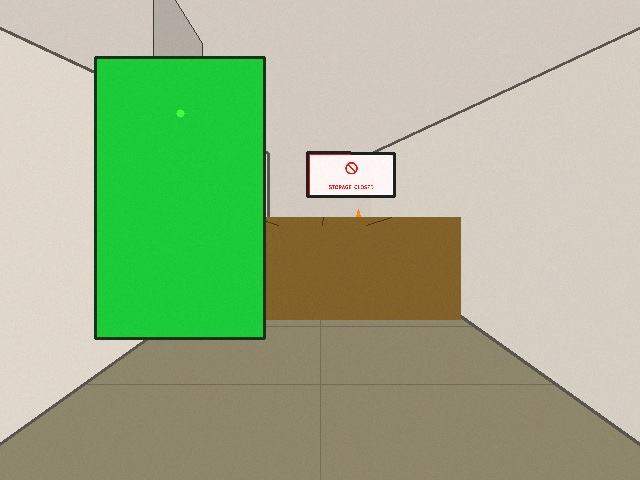charging_station: (95, 57, 264, 338)
directional_sign: (307, 152, 394, 196)
obstacle: (341, 209, 376, 270)
pallet: (186, 217, 460, 319)
